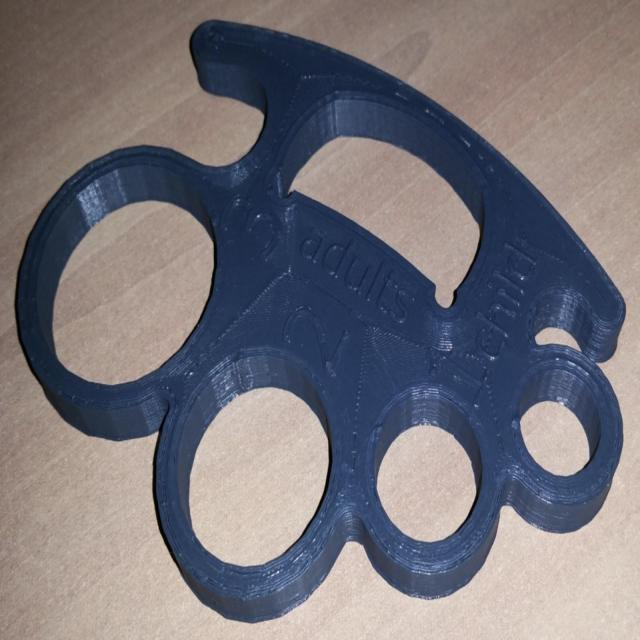Without deffect: (6, 2, 636, 610)
